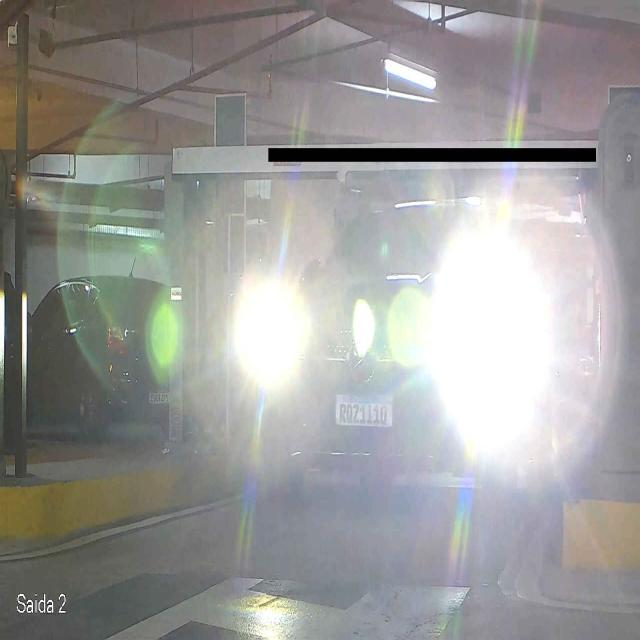mercosul_plate: (332, 391, 397, 429)
